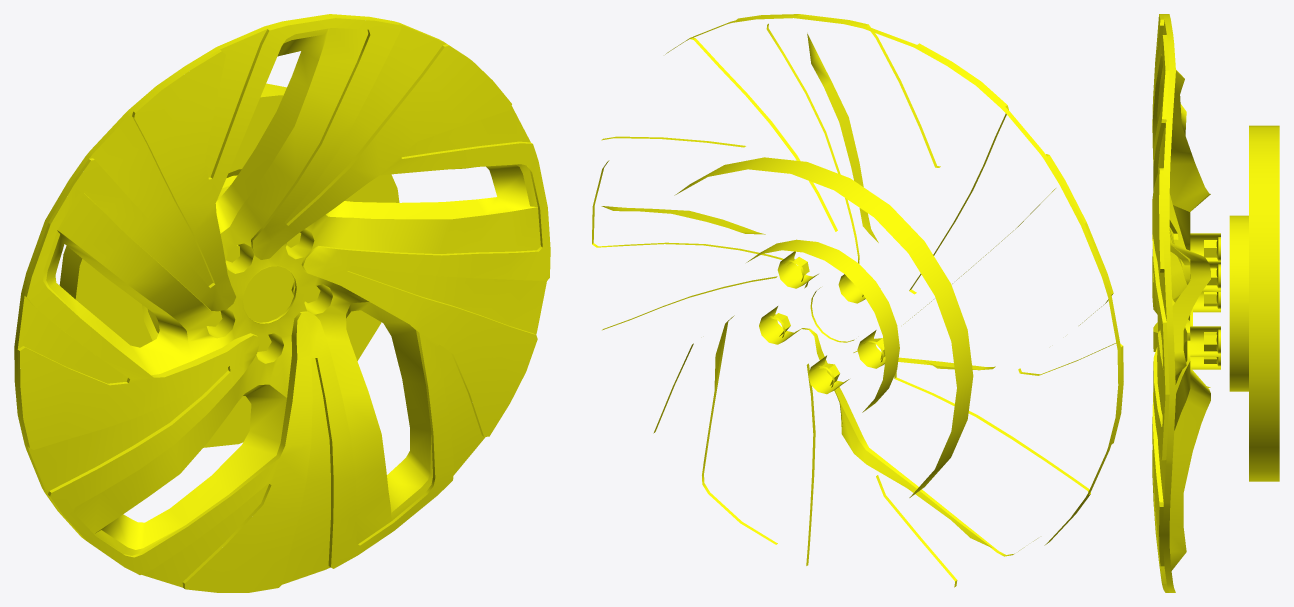
File: LunGu.glb
The picture shows the model from 3 angles, left to right: view 1: azimuth 30°, elevation 25°; view 2: azimuth 150°, elevation 25°; view 3: azimuth 270°, elevation 25°; orthographic projection. The views are drawn at different scales.
Parts seen in each view (by area): view 1: 对象065, 对象055, 对象051, 对象059; view 2: 对象065, 对象051, 对象059; view 3: 对象065, 对象051, 对象055, 对象059.
Part boxes in pixels (left/top/right/bottom): 对象065: left=14, top=14, right=546, bottom=588; 对象055: left=20, top=18, right=550, bottom=592; 对象051: left=59, top=83, right=399, bottom=447; 对象059: left=207, top=232, right=320, bottom=351; 对象065: left=592, top=14, right=1123, bottom=587; 对象051: left=674, top=157, right=973, bottom=497; 对象059: left=765, top=257, right=885, bottom=387; 对象065: left=1152, top=14, right=1220, bottom=592; 对象051: left=1229, top=125, right=1279, bottom=481; 对象055: left=1152, top=14, right=1187, bottom=591; 对象059: left=1204, top=237, right=1220, bottom=366.
Size of the model in its own units: 0.521 by 0.5218 by 0.1148.
Materials: 1 (1 with a texture image).
